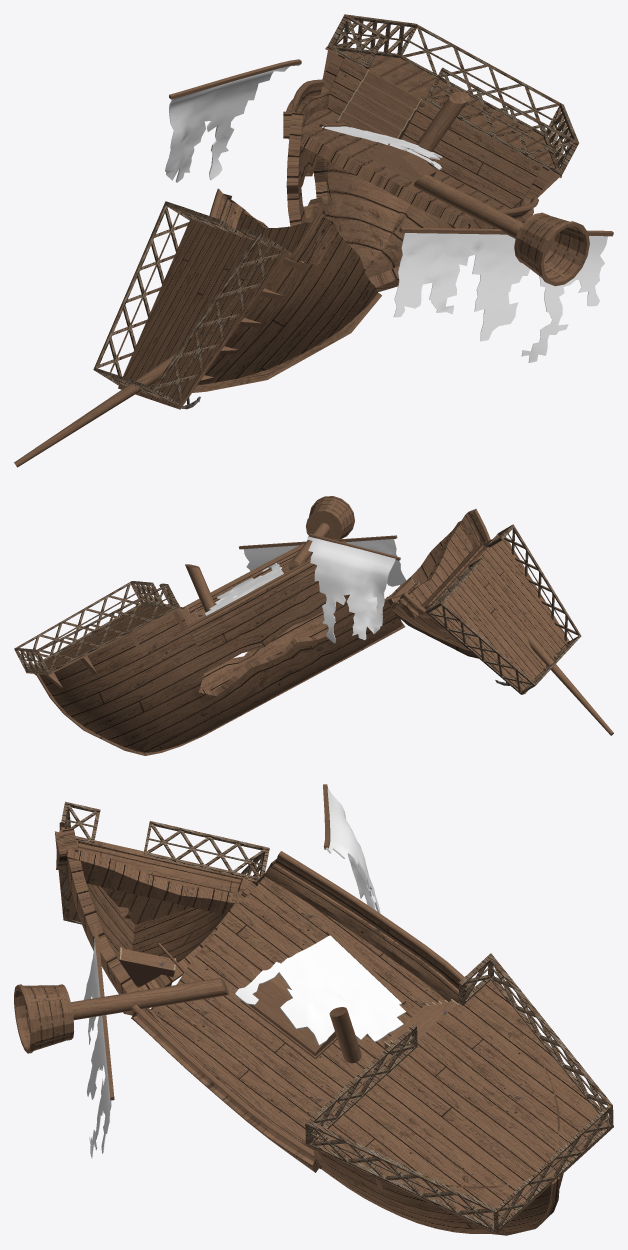
Rendered from Wreck.Cog.01.fbx.
The picture shows the model from 3 angles, top to bottom: view 1: azimuth 30°, elevation 25°; view 2: azimuth 150°, elevation 25°; view 3: azimuth 270°, elevation 25°; orthographic projection. The views are drawn at different scales.
Visible parts, largest first — view 1: Shipwreck; view 2: Shipwreck; view 3: Shipwreck.
Boxes of the visible parts, x1,y1,x2,y2 form: Shipwreck: (14,14,613,467); Shipwreck: (14,496,613,755); Shipwreck: (14,784,613,1235).
Size of the model in its own units: 1642 by 670 by 1179.
